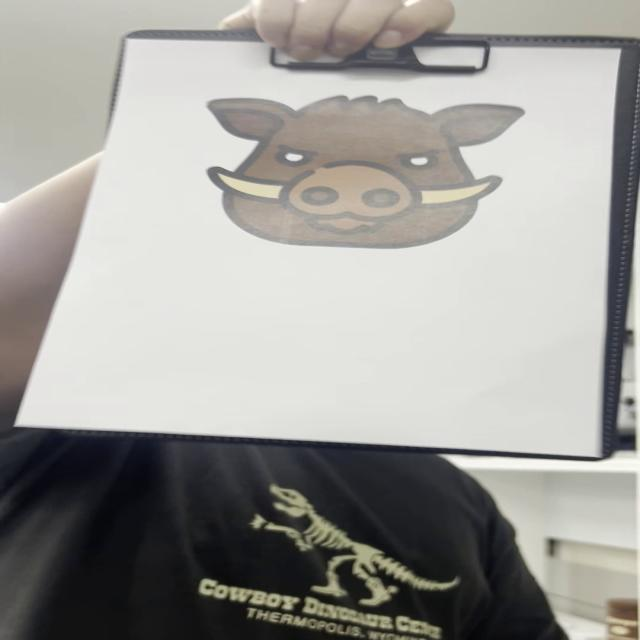animal: (204, 94, 524, 250)
